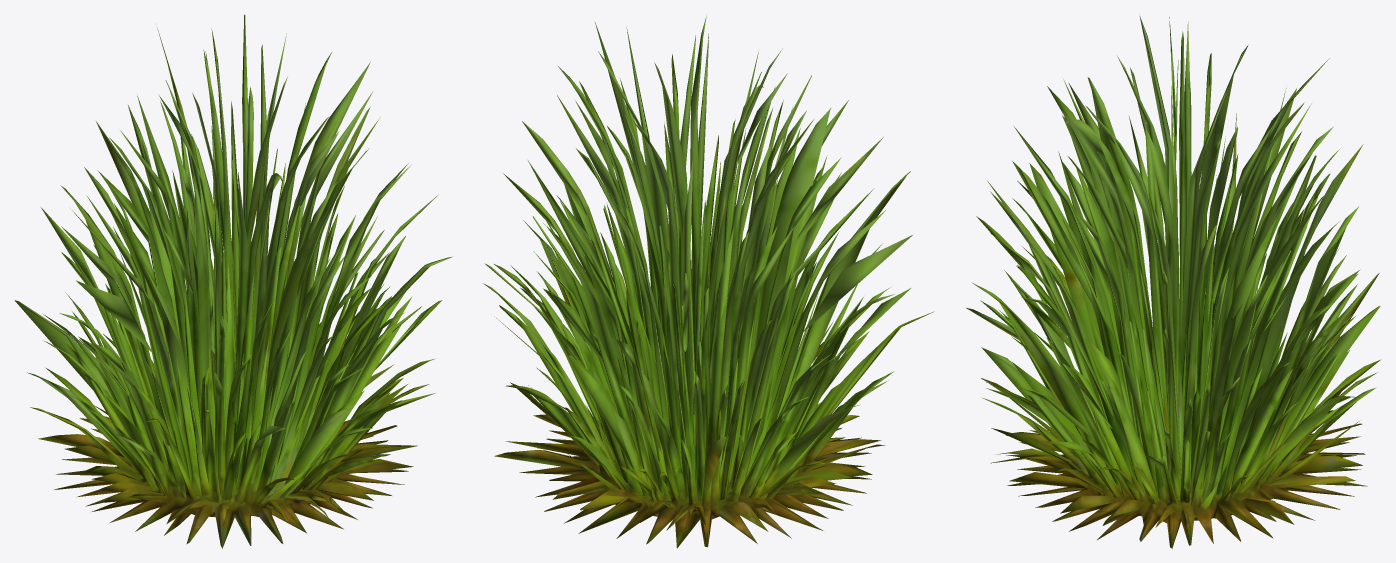
File: swampgrass2.opt.glb
3 views of the same model, side by side, from view 1: azimuth 30°, elevation 25°; view 2: azimuth 150°, elevation 25°; view 3: azimuth 270°, elevation 25° (orthographic). The views are drawn at different scales.
Visible parts, largest first — view 1: node_0; view 2: node_0; view 3: node_0.
Part boxes in pixels (bbox=[...]): node_0: bbox=[14, 14, 452, 548]; node_0: bbox=[483, 16, 934, 548]; node_0: bbox=[966, 16, 1380, 548].
Size of the model in its own units: 0.8821 by 0.9281 by 0.8055.
Materials: 1 (1 with a texture image).
